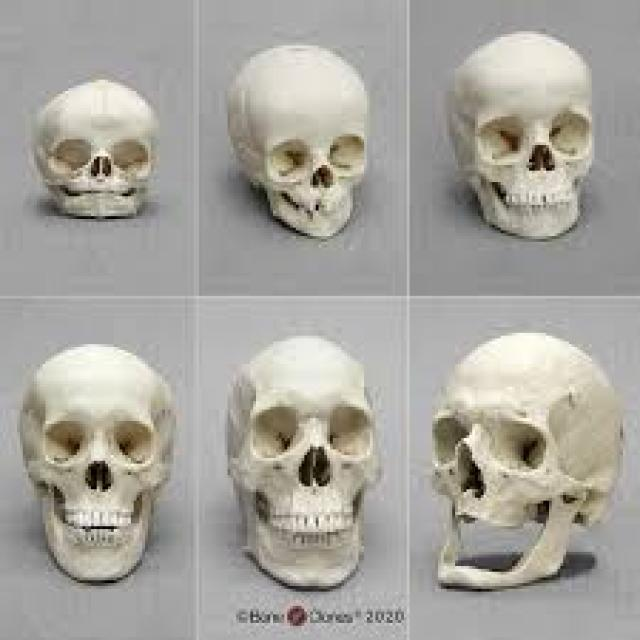skull: (214, 331, 393, 598)
